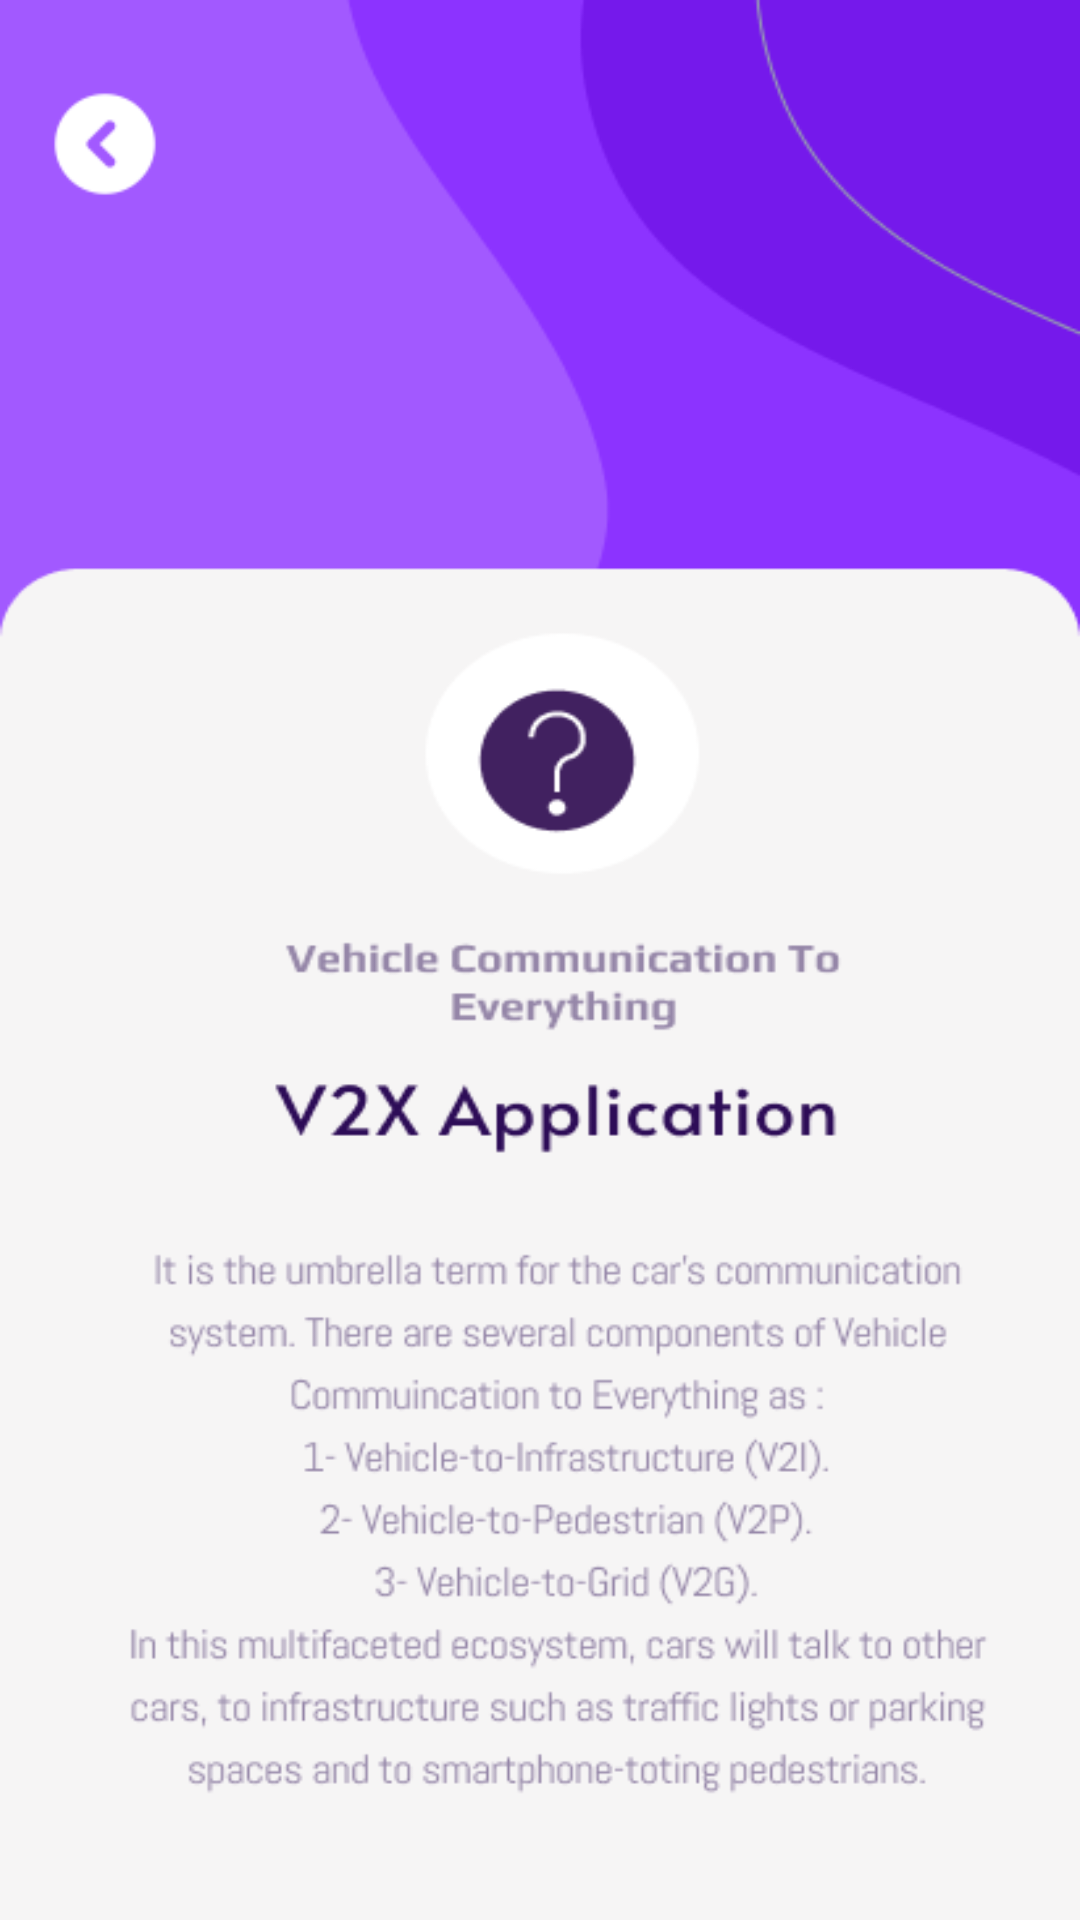

Where to tap for icons on this 1080*1920 app screen, as [x,y]:
back: [105,144]
